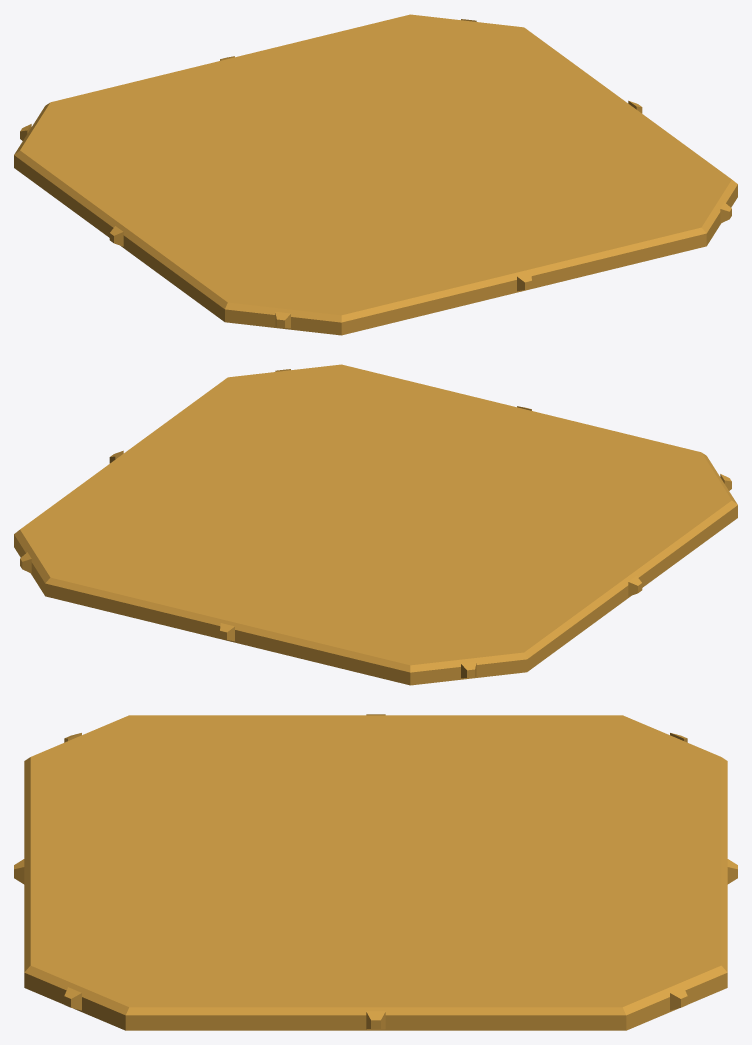
The model's file is HarpoonKit3.obj.
3 views of the same model, one above another, from view 1: azimuth 30°, elevation 25°; view 2: azimuth 150°, elevation 25°; view 3: azimuth 270°, elevation 25° (orthographic). The views are drawn at different scales.
Visible parts, largest first — view 1: HarpoonKit3; view 2: HarpoonKit3; view 3: HarpoonKit3.
Boxes of the visible parts, x1,y1,x2,y2 form: HarpoonKit3: (14,14,737,335); HarpoonKit3: (14,364,737,685); HarpoonKit3: (14,714,737,1030).
Size of the model in its own units: 0.943 by 0.03 by 0.943.
